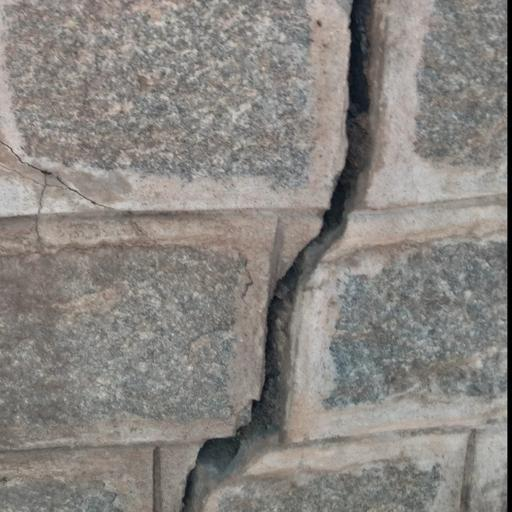major_crack: (173, 0, 393, 512), (0, 132, 121, 276)
